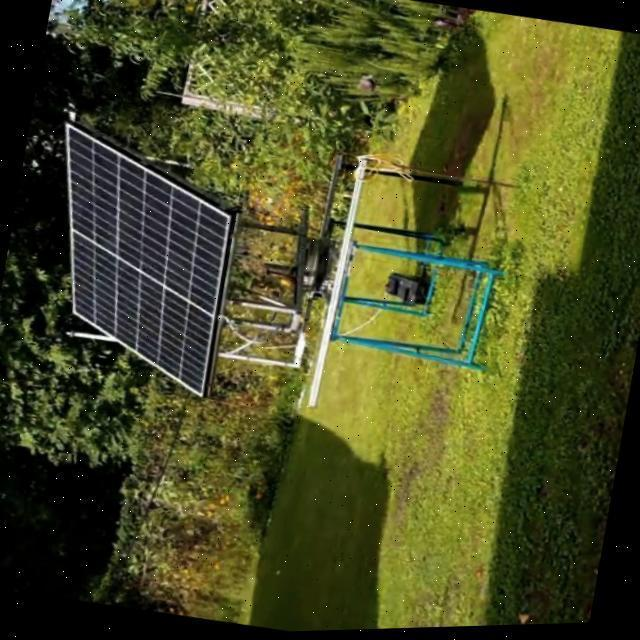Normal Solar Panel: (25, 115, 252, 402)
